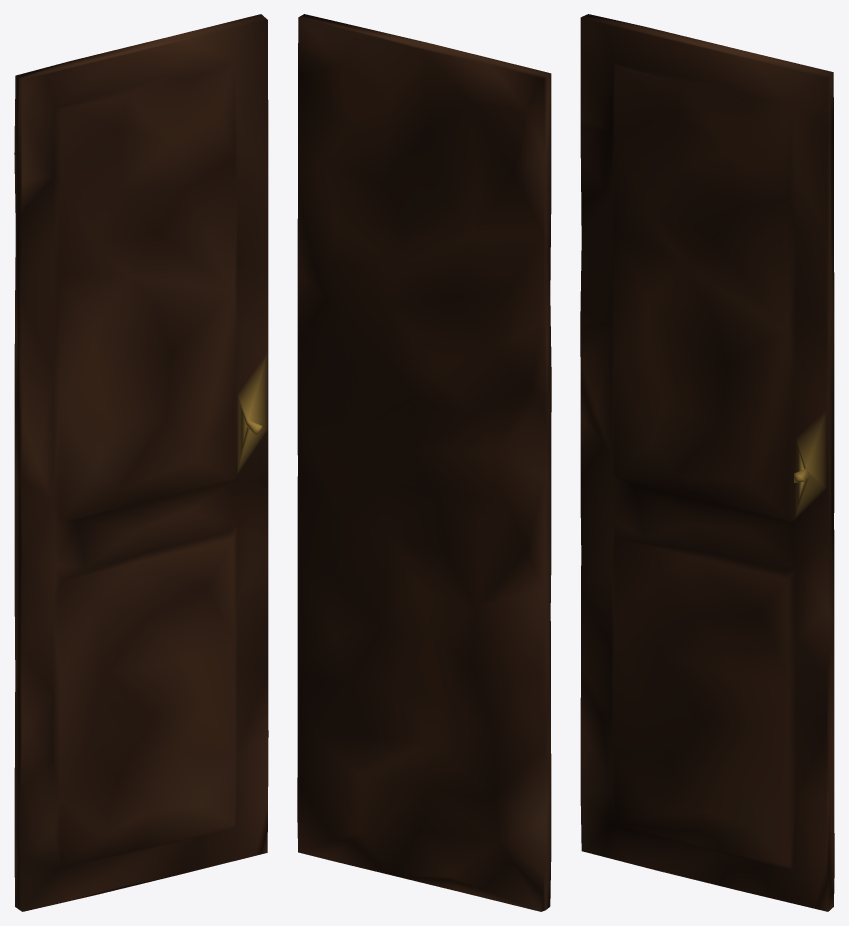
The model's file is wardrobe_leaf.glb.
3 renders of one model, left to right at view 1: azimuth 30°, elevation 25°; view 2: azimuth 150°, elevation 25°; view 3: azimuth 330°, elevation 25°, orthographic.
Visible parts, largest first — view 1: wardrobe_leaf; view 2: wardrobe_leaf; view 3: wardrobe_leaf.
Boxes of the visible parts, left/top/right/bottom form: wardrobe_leaf: left=14, top=14, right=268, bottom=911; wardrobe_leaf: left=297, top=14, right=551, bottom=911; wardrobe_leaf: left=580, top=14, right=834, bottom=911.
Size of the model in its own units: 0.5847 by 1.88 by 0.0729.
